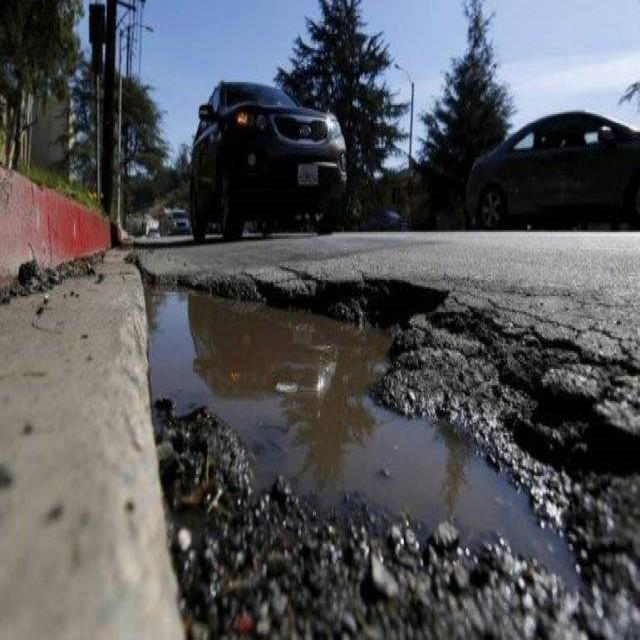jalan retak: (440, 261, 640, 404), (252, 253, 326, 294)
lubang: (141, 256, 638, 640)
